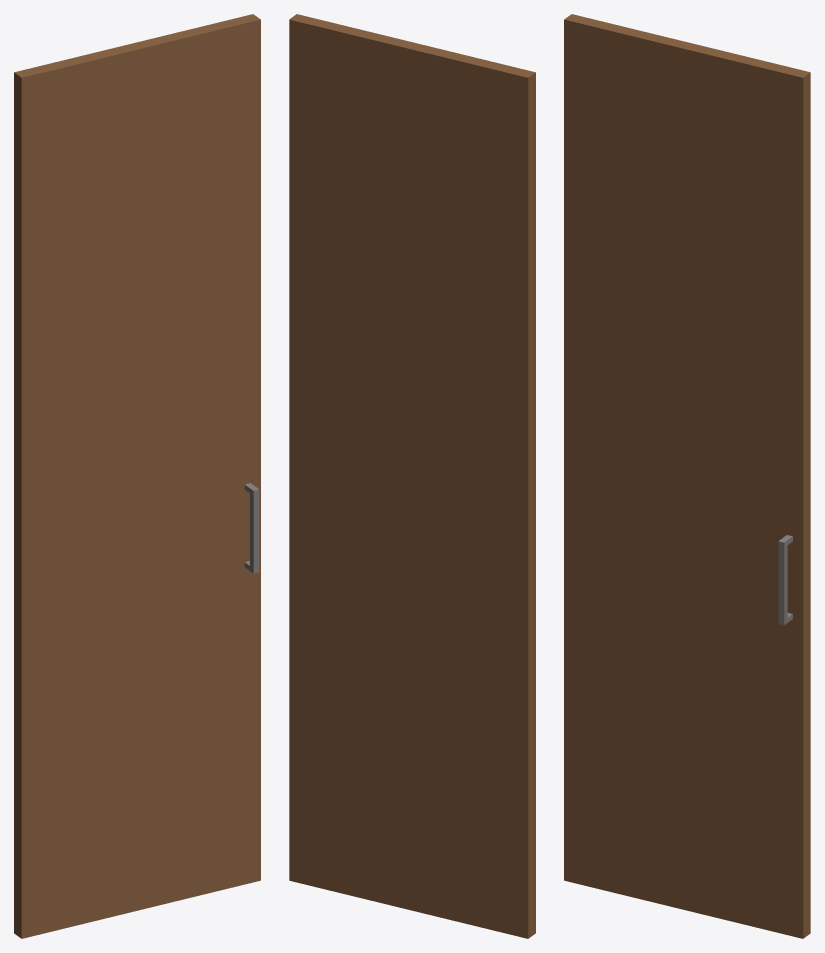
File: Cupboard_03_02.fbx
The picture shows the model from 3 angles, left to right: view 1: azimuth 30°, elevation 25°; view 2: azimuth 150°, elevation 25°; view 3: azimuth 330°, elevation 25°; orthographic projection.
Parts seen in each view (by area): view 1: Cupboard_03_02; view 2: Cupboard_03_02; view 3: Cupboard_03_02.
Boxes of the visible parts, <box> form: Cupboard_03_02: <box>14,14,260,938</box>; Cupboard_03_02: <box>289,14,535,938</box>; Cupboard_03_02: <box>564,14,810,938</box>.
Bounding box in the file's own units: 57.64 × 198 × 6.86.
